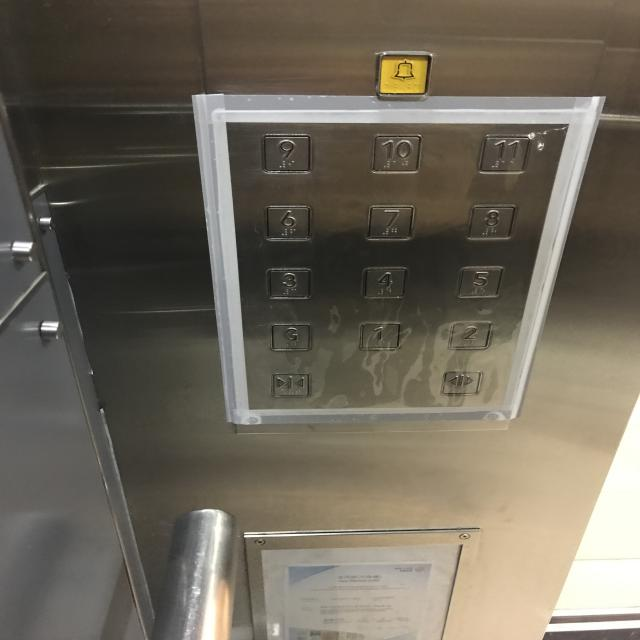1: (357, 321, 402, 352)
10: (368, 133, 424, 175)
11: (474, 133, 534, 175)
2: (446, 319, 495, 351)
3: (265, 266, 313, 301)
4: (359, 266, 409, 300)
5: (453, 265, 505, 299)
6: (263, 203, 313, 242)
7: (365, 204, 415, 240)
8: (464, 203, 518, 240)
9: (260, 132, 313, 176)
G: (267, 322, 312, 352)
alarm: (376, 49, 434, 101)
close: (270, 371, 312, 398)
open: (439, 369, 483, 395)
